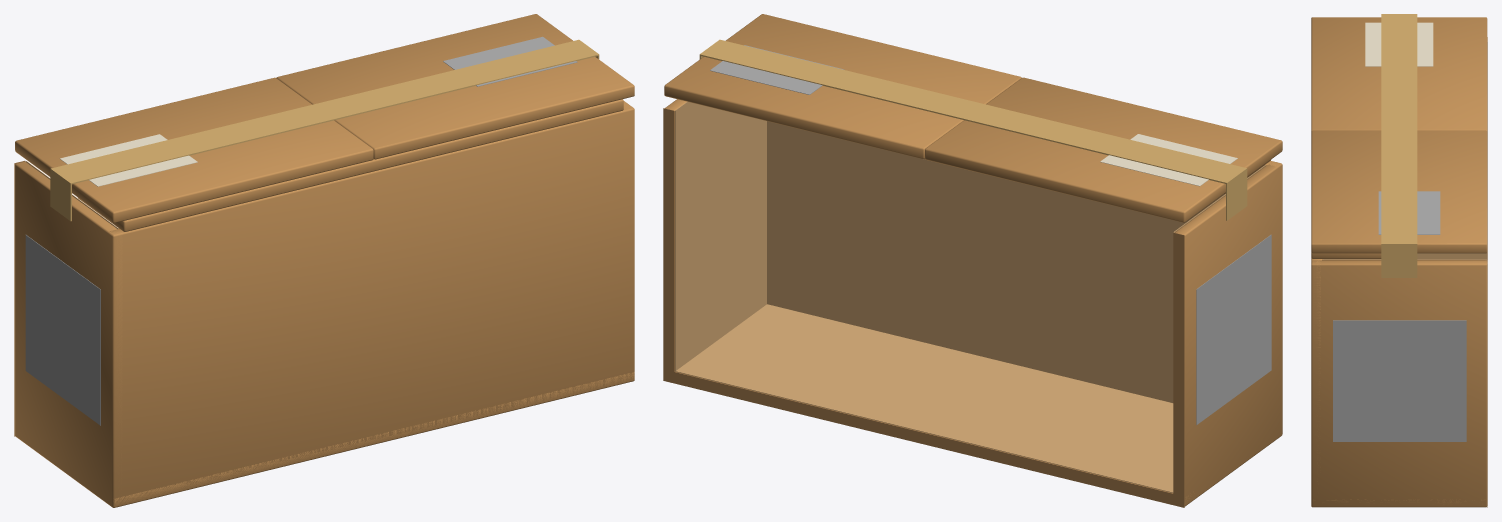
The picture shows the model from 3 angles, left to right: view 1: azimuth 30°, elevation 25°; view 2: azimuth 150°, elevation 25°; view 3: azimuth 270°, elevation 25°; orthographic projection. The views are drawn at different scales.
Visible parts, largest first — view 1: box_4x2, FlapR, FlapL, Tape, FlapB; view 2: box_4x2, FlapR, FlapL, Tape; view 3: box_4x2, FlapL, FlapR, Tape, FlapB.
Boxes of the visible parts, x1,y1,x2,y2 form: box_4x2: (14,101,634,507); FlapR: (15,77,373,223); FlapL: (276,14,634,159); Tape: (50,39,599,221); FlapB: (78,99,623,231); box_4x2: (663,99,1282,507); FlapR: (925,77,1282,222); FlapL: (664,14,1021,159); Tape: (699,39,1247,220); box_4x2: (1311,37,1487,507); FlapL: (1311,130,1487,253); FlapR: (1311,17,1487,131); Tape: (1381,14,1417,277); FlapB: (1311,253,1381,258).
Bounding box in the file's own units: 1.06 × 0.5685 × 0.3428.
